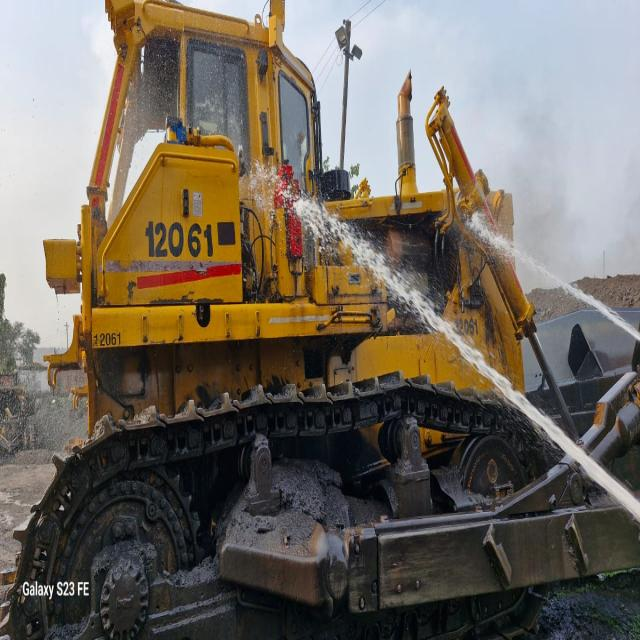buldozerpayloadergrader: (71, 0, 640, 640)
